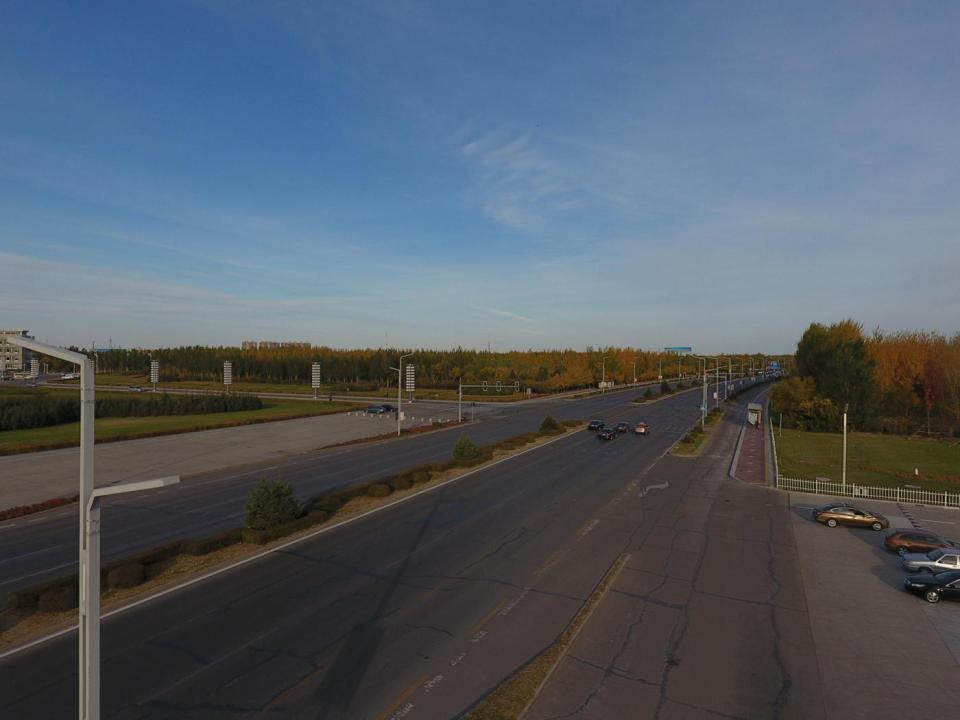car: (811, 502, 890, 531), (884, 527, 958, 556), (903, 568, 958, 603), (900, 547, 960, 576), (597, 427, 617, 440), (587, 419, 606, 431), (615, 421, 633, 433), (363, 404, 387, 413), (634, 422, 650, 434), (378, 403, 398, 412), (61, 373, 73, 380), (26, 382, 38, 388), (0, 376, 14, 381), (68, 373, 79, 378)
van: (128, 385, 144, 393)
